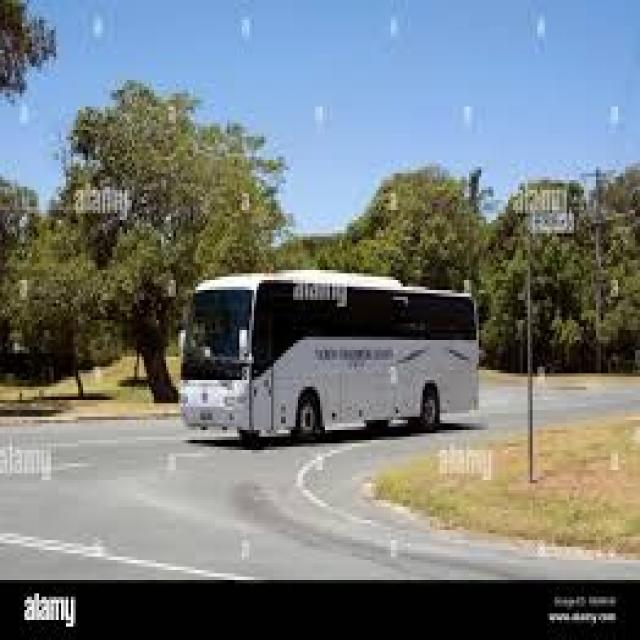bus: (176, 260, 494, 460)
